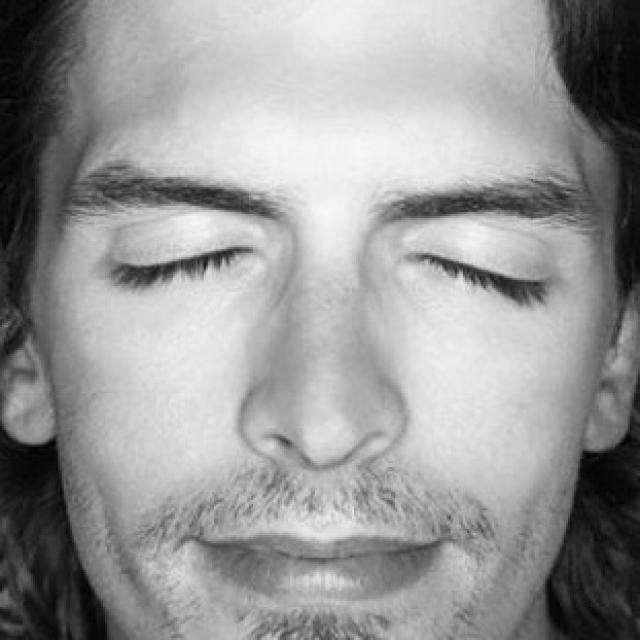real: (60, 0, 590, 640), (96, 154, 584, 322)
